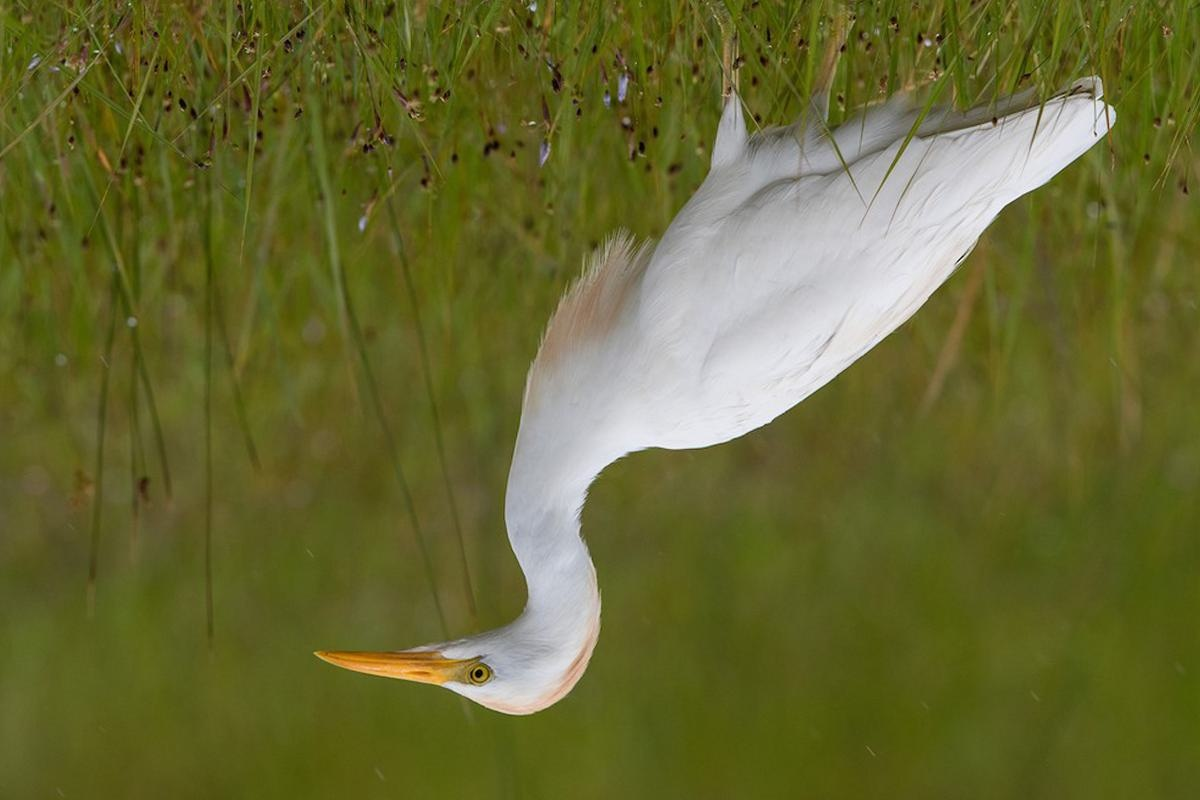egret: (280, 55, 1178, 740)
